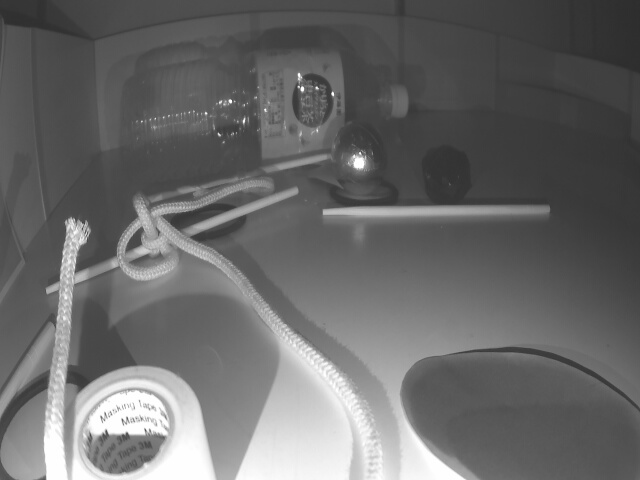Dead: (428, 145, 468, 198)
Live: (332, 122, 379, 194)
